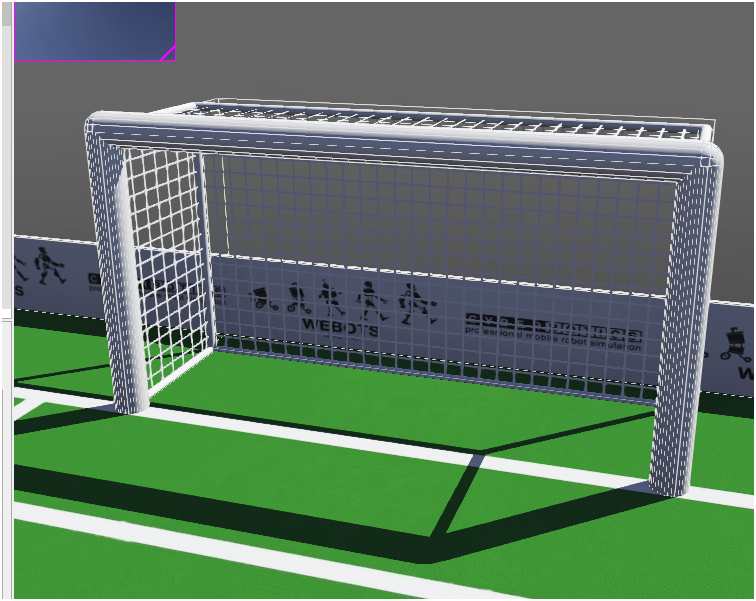Goal: (59, 56, 733, 490)
